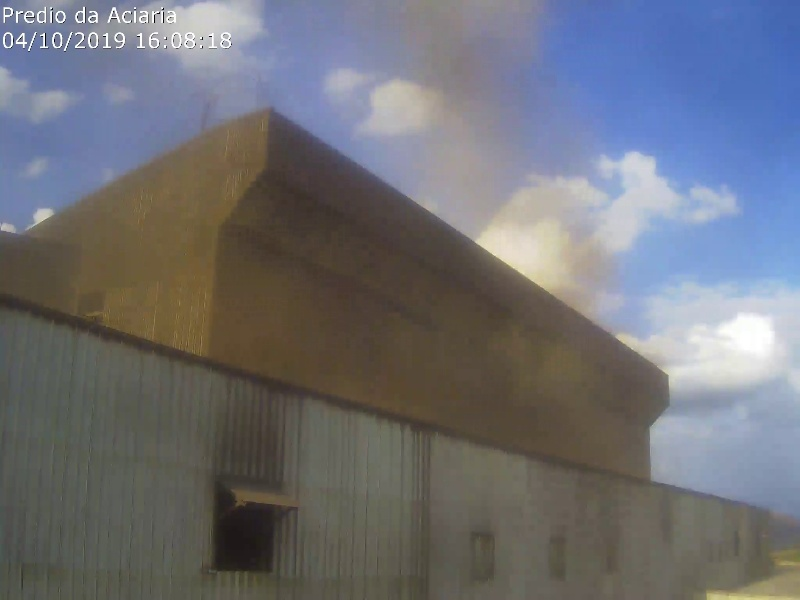ruim: (355, 2, 638, 297)
